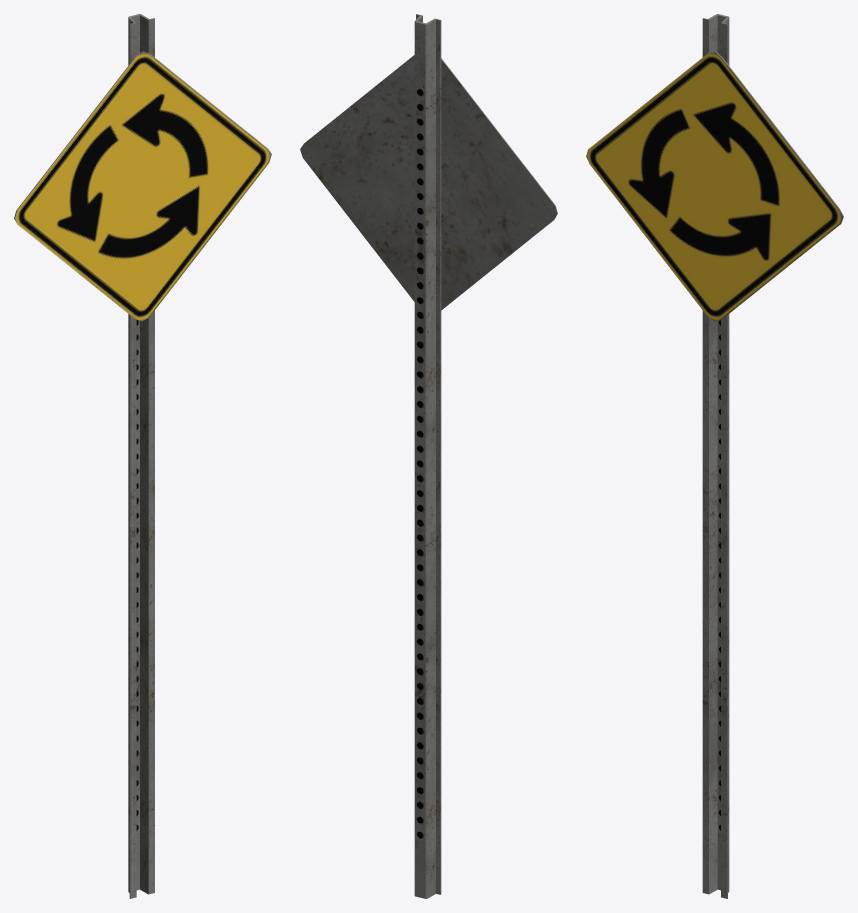
File: change.glb
The picture shows the model from 3 angles, left to right: view 1: azimuth 30°, elevation 25°; view 2: azimuth 150°, elevation 25°; view 3: azimuth 330°, elevation 25°; orthographic projection.
Parts seen in each view (by area): view 1: Cube.059_15; view 2: Cube.059_15; view 3: Cube.059_15.
Boxes of the visible parts, x1=… form: Cube.059_15: x1=14, y1=14, x2=271, y2=898; Cube.059_15: x1=300, y1=14, x2=557, y2=898; Cube.059_15: x1=586, y1=14, x2=843, y2=898.
Bounding box in the file's own units: 3.5 × 11.36 × 0.2147.
Materials: 1 (1 with a texture image).
